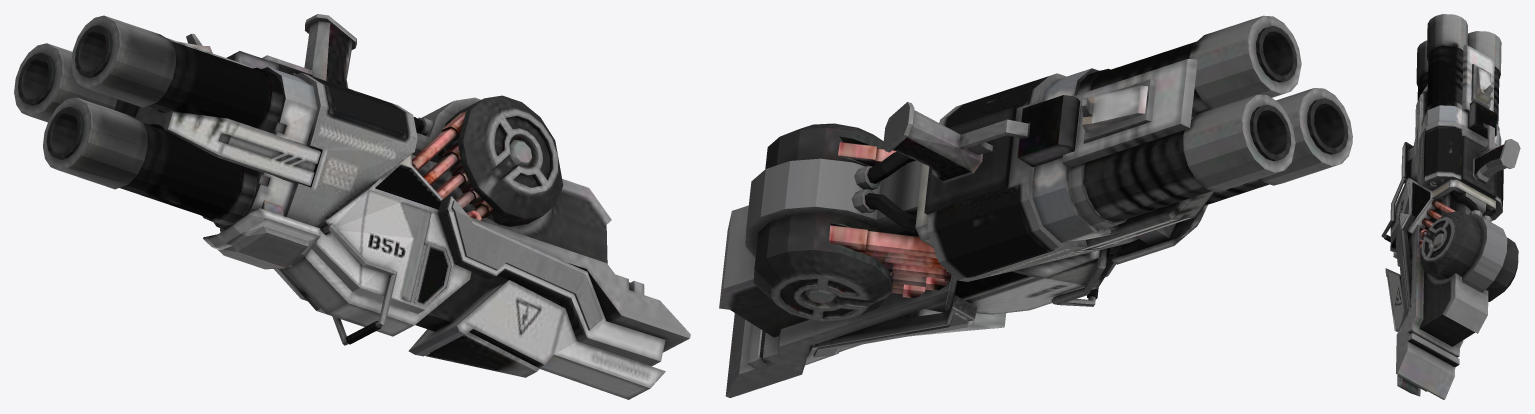
The model's file is eng-plasma.glb.
3 views of the same model, side by side, from view 1: azimuth 30°, elevation 25°; view 2: azimuth 150°, elevation 25°; view 3: azimuth 270°, elevation 25° (orthographic). The views are drawn at different scales.
Visible parts, largest first — view 1: geometry_0; view 2: geometry_0; view 3: geometry_0.
Part boxes in pixels (x1,y1,x2,y2): geometry_0: (14,14,690,399); geometry_0: (719,15,1352,397); geometry_0: (1381,14,1520,399).
Bounding box in the file's own units: 0.8749 × 0.6642 × 0.3273.
Materials: 1 (1 with a texture image).
